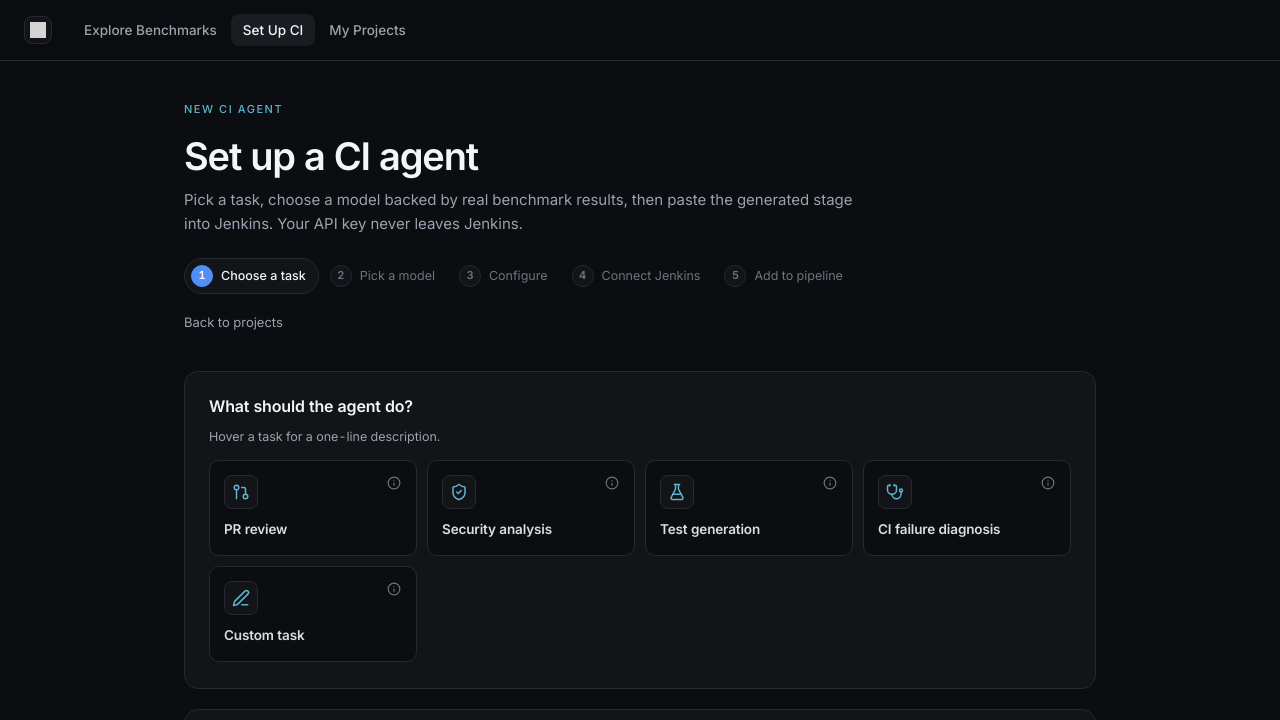
it: marks the chosen card and scrolls to the selection without the snapshot line
What coordinates should you click on to do the following:
click the radio button labelled "PR review"
I would click on:
 (256, 506)
Its box is [224,475,287,537].
(page scrolled)
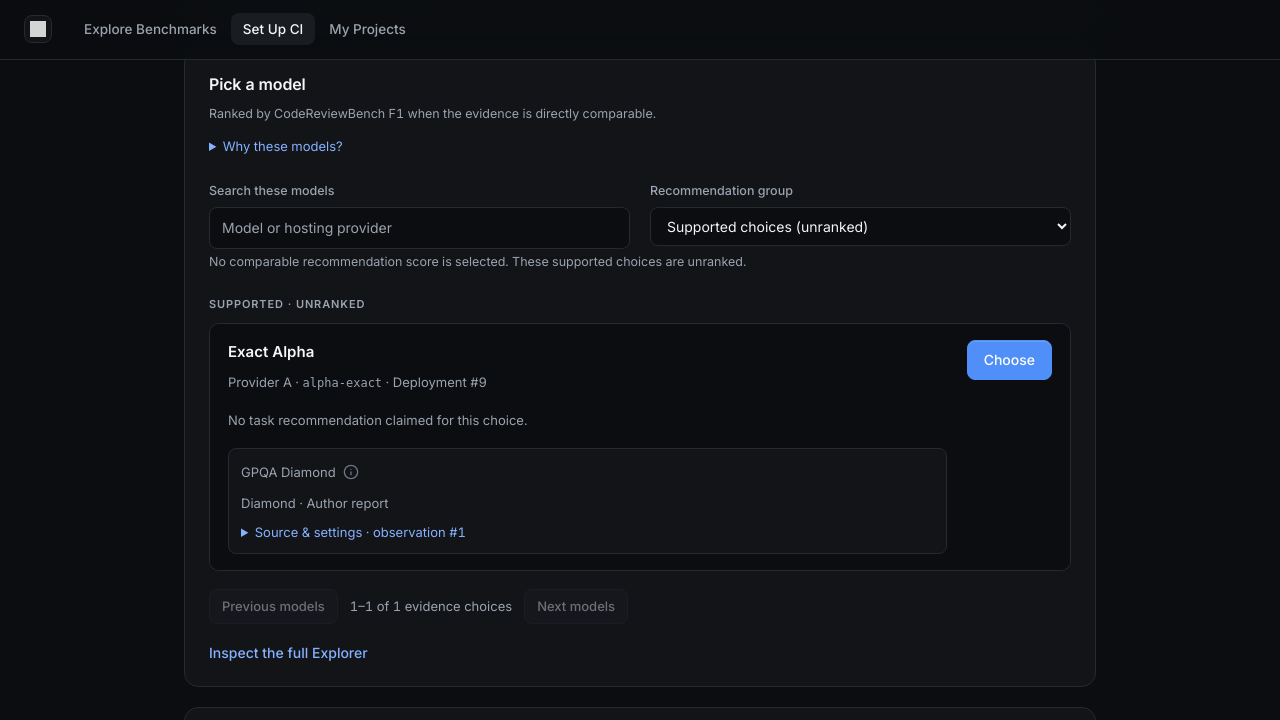
Expected: the heading "Source & settings · observation #1" is shown, [255,524,466,540]
What coordinates should you click on to do the following:
click the button with aria-label "Choose Exact Alpha"
I would click on:
 (1009, 360)
Its box is [967,340,1052,380].
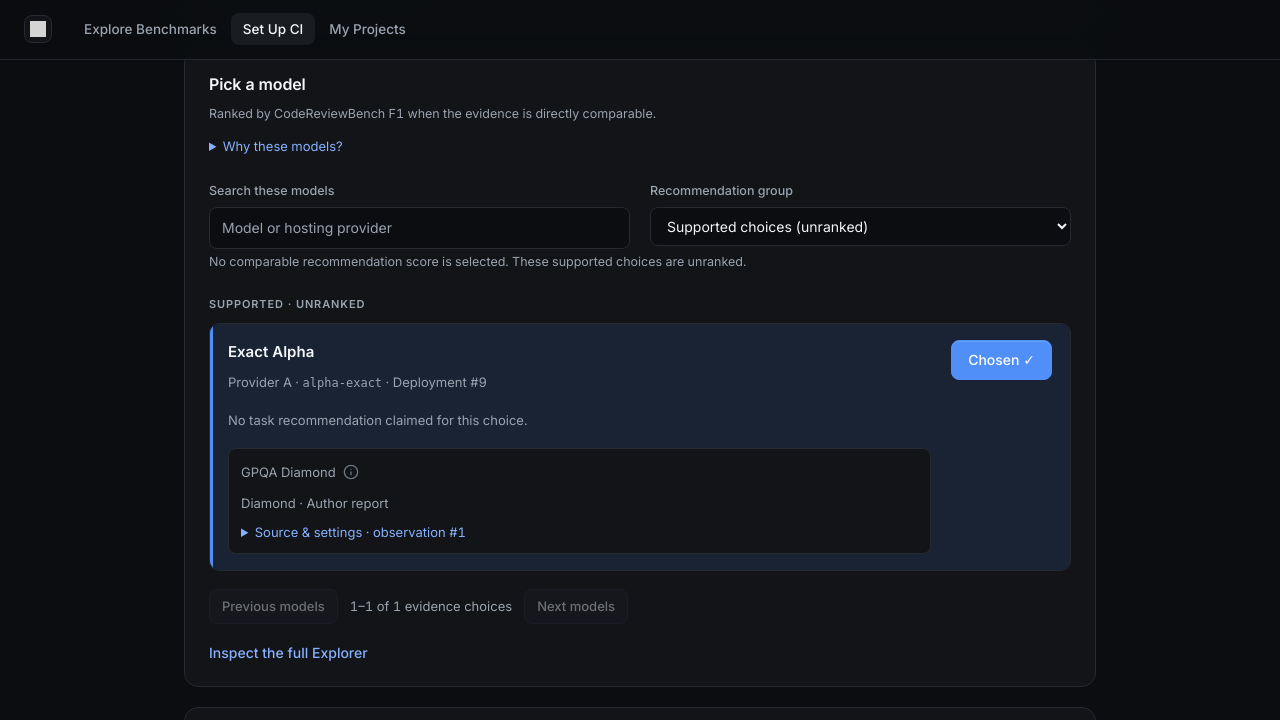
Expected: the button with aria-label "Choose Exact Alpha" shows "Chosen", [951,340,1052,380]
